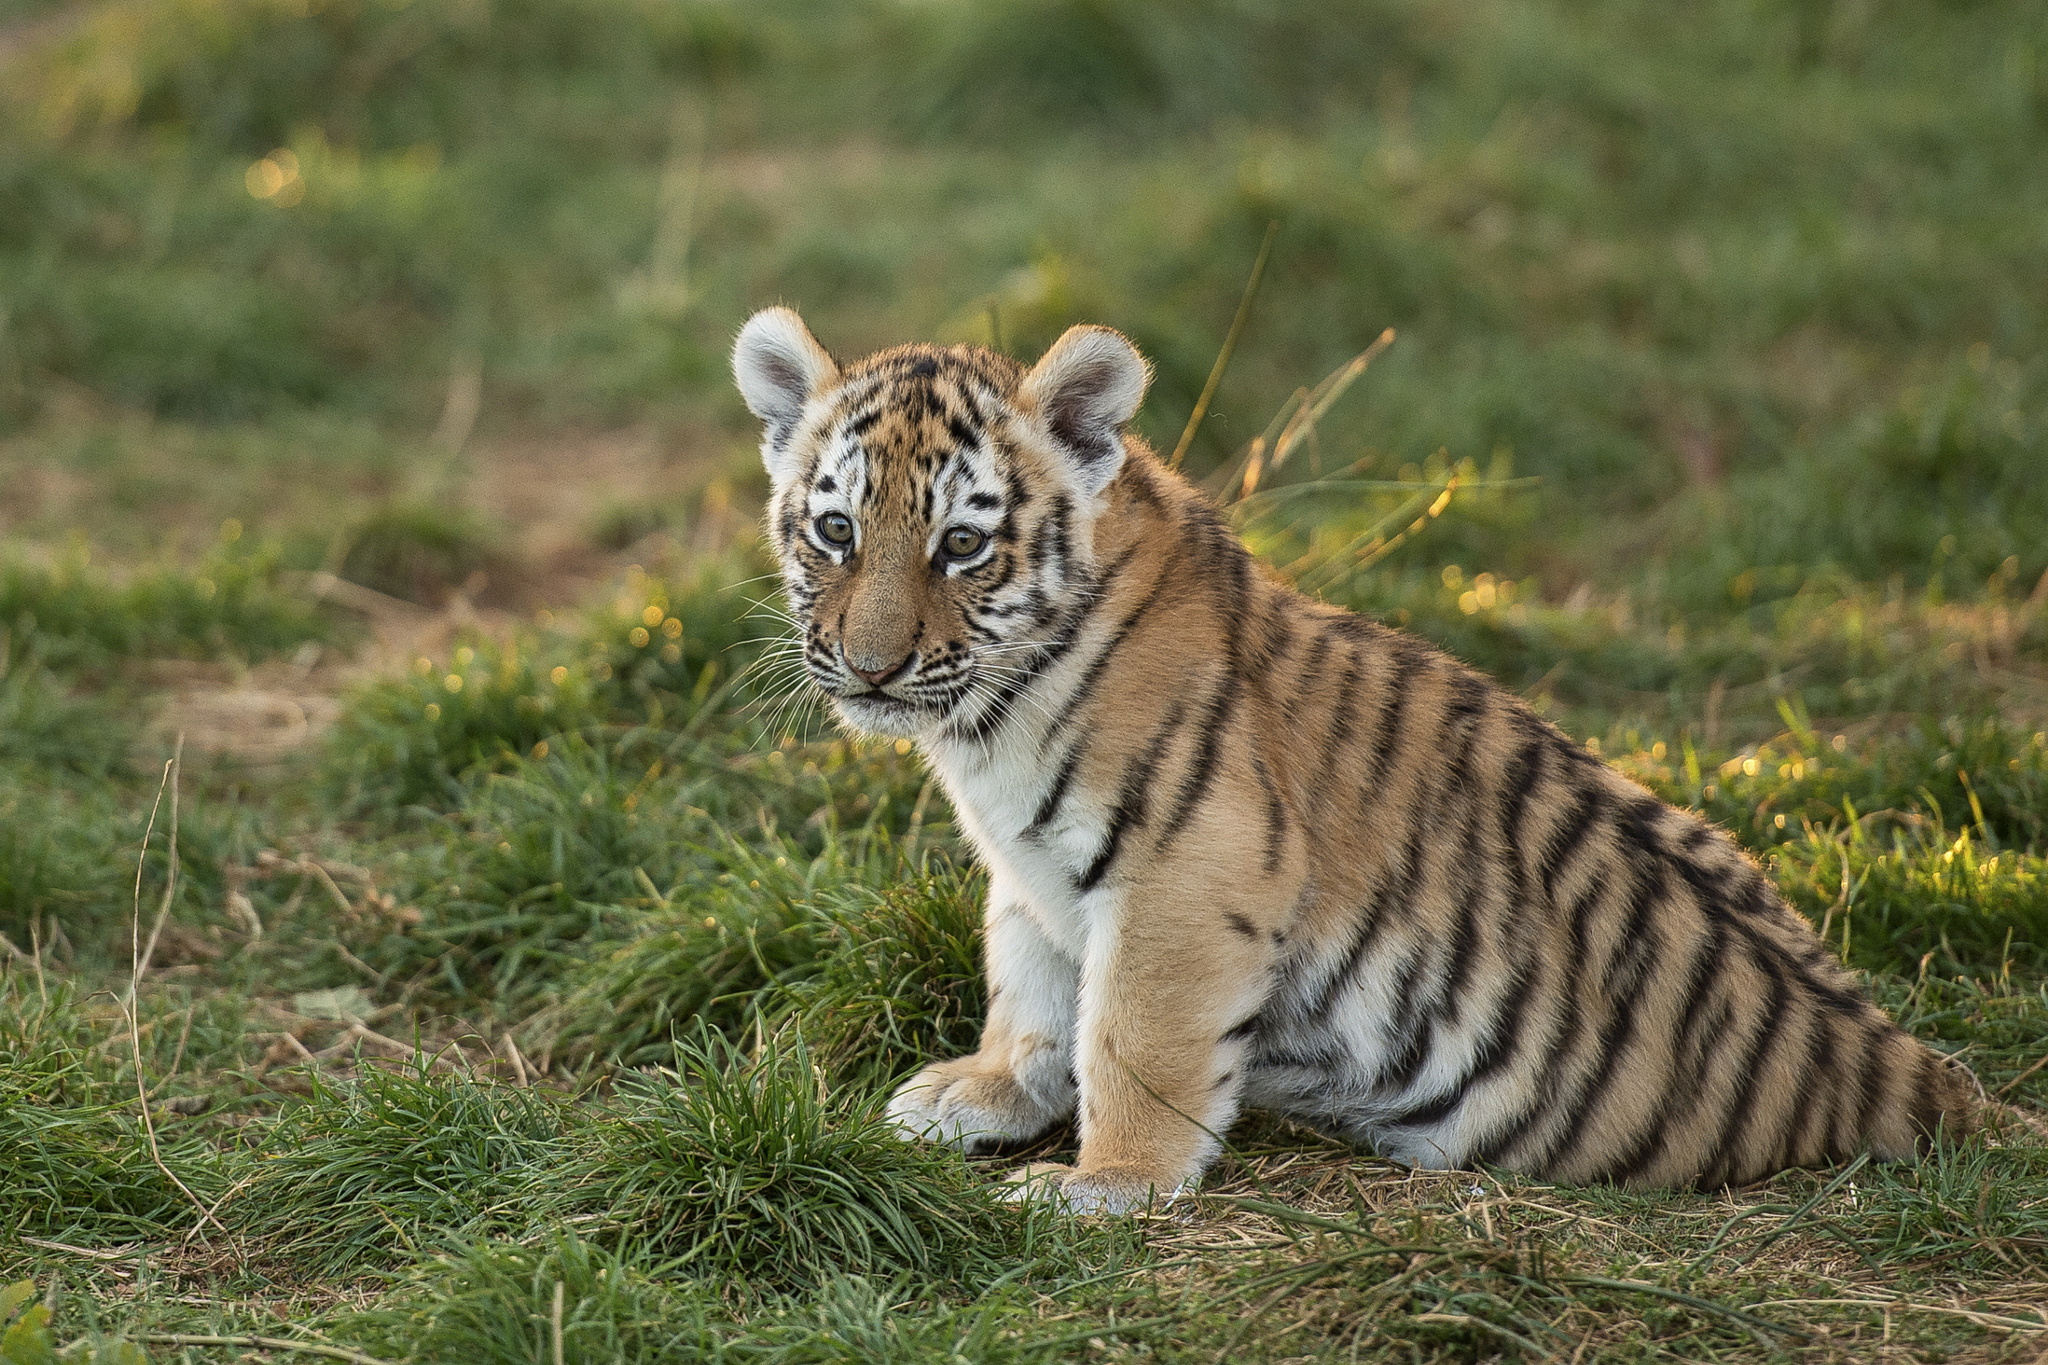tiger: (713, 314, 2030, 1246)
